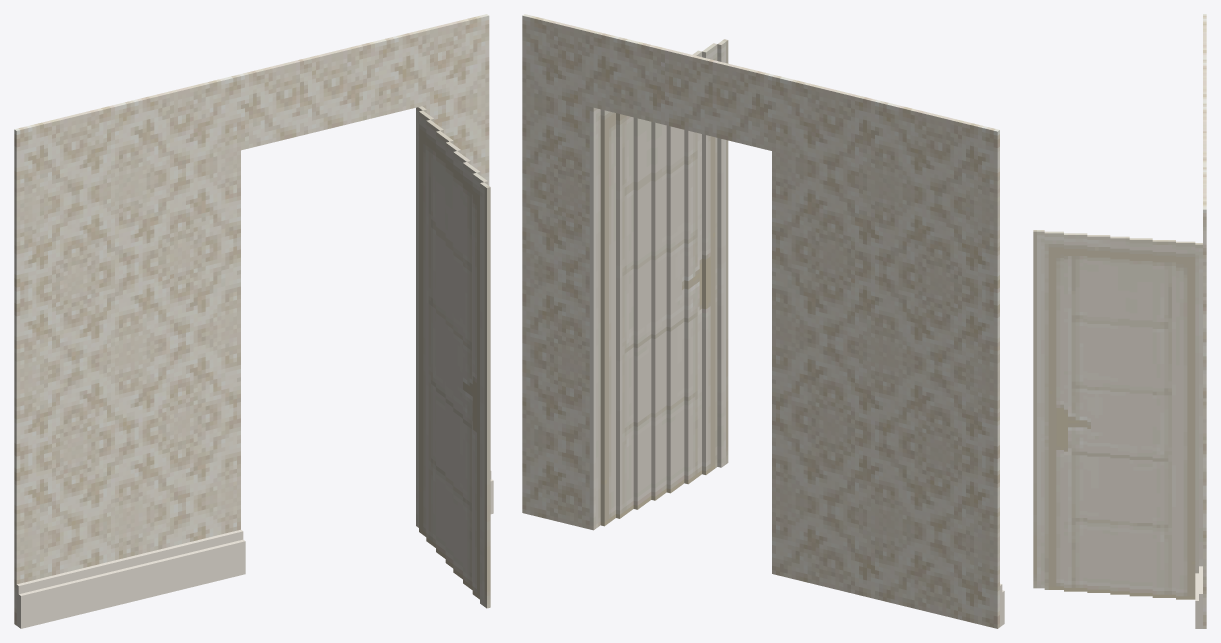
File: door.vox.obj
3 renders of one model, left to right at view 1: azimuth 30°, elevation 25°; view 2: azimuth 150°, elevation 25°; view 3: azimuth 270°, elevation 25°, orthographic. The views are drawn at different scales.
Bounding box in the file's own units: 12 × 12 × 4.5.
1 material, 1 textured.
